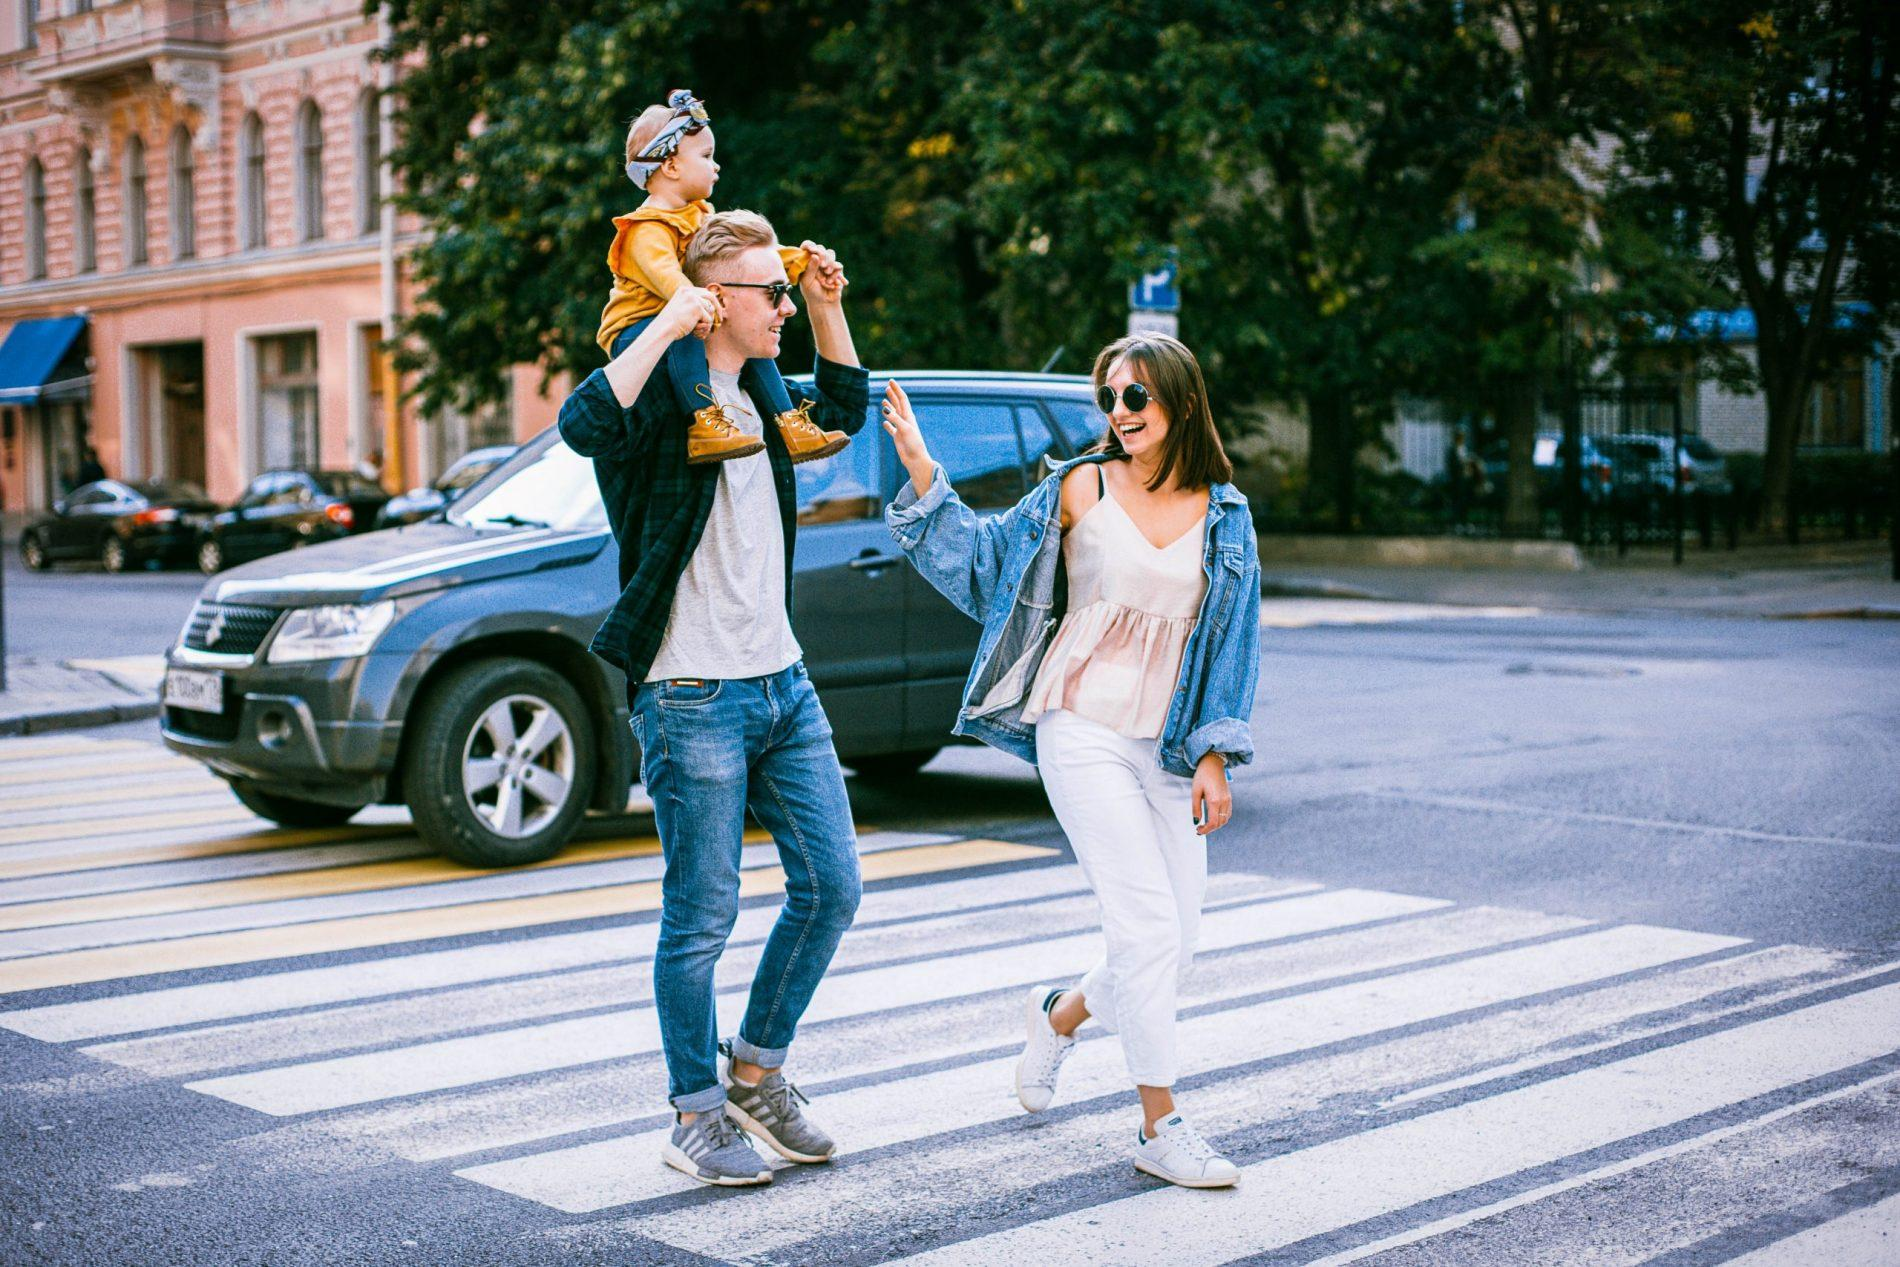car: (145, 338, 1273, 846)
pedestrian: (879, 291, 1321, 1215), (560, 204, 913, 1182), (573, 81, 871, 484)
traffic sign: (1088, 216, 1216, 368)
